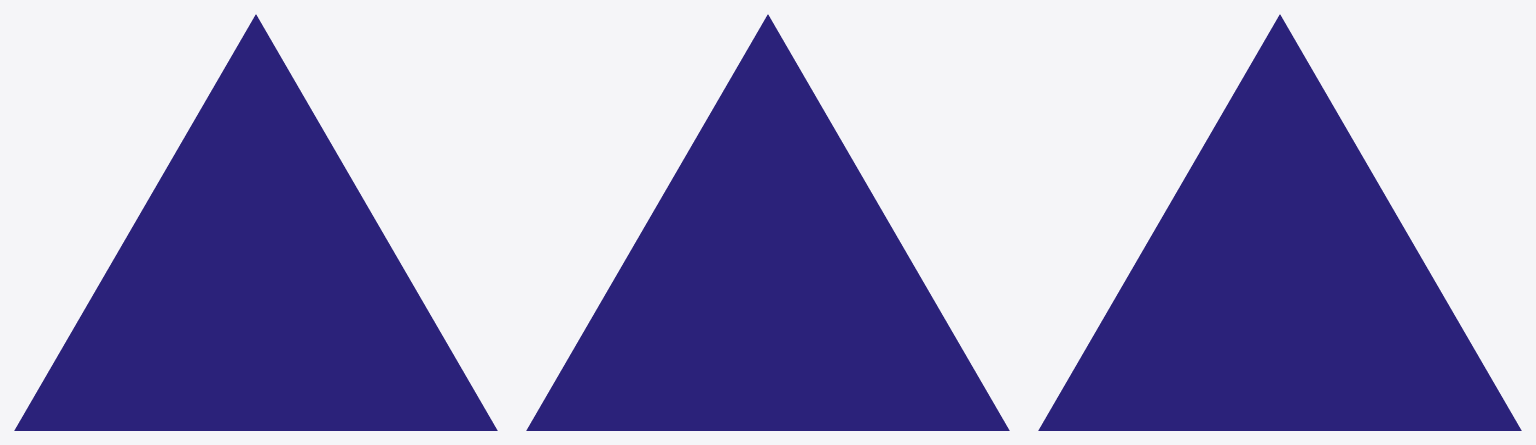
3 views of the same model, side by side, from view 1: azimuth 30°, elevation 25°; view 2: azimuth 150°, elevation 25°; view 3: azimuth 270°, elevation 25° (orthographic).
Visible parts, largest first — view 1: s1-1_015-n_S; view 2: s1-1_015-n_S; view 3: s1-1_015-n_S.
Boxes of the visible parts, x1,y1,x2,y2 form: s1-1_015-n_S: (14,14,497,430); s1-1_015-n_S: (526,14,1009,430); s1-1_015-n_S: (1038,14,1521,430).
Bounding box in the file's own units: 35472 × 40960 × 33444.
